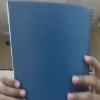notebook: (6, 0, 94, 99)
